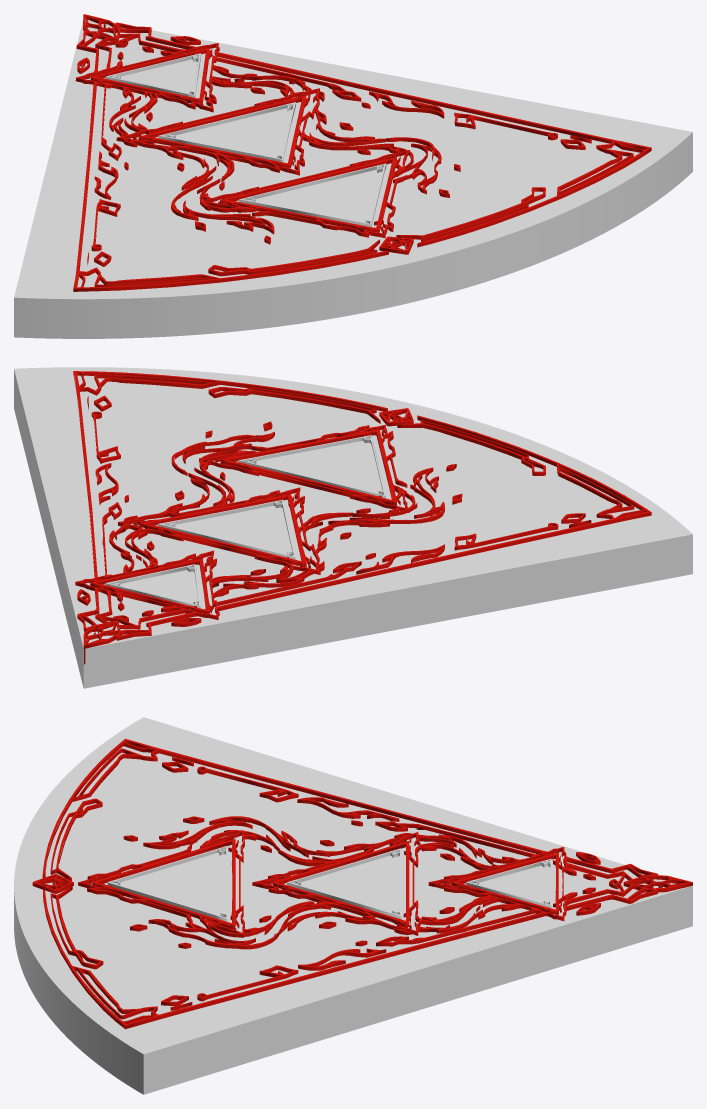
The model's file is floor_creative.glb.
3 renders of one model, top to bottom at view 1: azimuth 30°, elevation 25°; view 2: azimuth 150°, elevation 25°; view 3: azimuth 270°, elevation 25°, orthographic.
Parts seen in each view (by area): view 1: VR_PROGRESS_SECTOR_FIRE_BASE, path4, VR_PROGRESS_CARD_FIRE_03, VR_PROGRESS_CARD_FIRE_02, VR_PROGRESS_CARD_FIRE_01; view 2: VR_PROGRESS_SECTOR_FIRE_BASE, path4, VR_PROGRESS_CARD_FIRE_03, VR_PROGRESS_CARD_FIRE_02, VR_PROGRESS_CARD_FIRE_01; view 3: VR_PROGRESS_SECTOR_FIRE_BASE, path4, VR_PROGRESS_CARD_FIRE_03, VR_PROGRESS_CARD_FIRE_02, VR_PROGRESS_CARD_FIRE_01.
Boxes of the visible parts, left/top/right/bottom form: VR_PROGRESS_SECTOR_FIRE_BASE: left=14, top=20, right=692, bottom=338; path4: left=73, top=14, right=651, bottom=291; VR_PROGRESS_CARD_FIRE_03: left=239, top=163, right=386, bottom=227; VR_PROGRESS_CARD_FIRE_02: left=158, top=102, right=295, bottom=162; VR_PROGRESS_CARD_FIRE_01: left=105, top=53, right=200, bottom=97; VR_PROGRESS_SECTOR_FIRE_BASE: left=14, top=367, right=692, bottom=688; path4: left=73, top=371, right=651, bottom=664; VR_PROGRESS_CARD_FIRE_03: left=238, top=435, right=385, bottom=498; VR_PROGRESS_CARD_FIRE_02: left=157, top=500, right=295, bottom=559; VR_PROGRESS_CARD_FIRE_01: left=105, top=564, right=200, bottom=608; VR_PROGRESS_SECTOR_FIRE_BASE: left=14, top=717, right=692, bottom=1094; path4: left=32, top=738, right=692, bottom=1029; VR_PROGRESS_CARD_FIRE_03: left=107, top=846, right=227, bottom=921; VR_PROGRESS_CARD_FIRE_02: left=287, top=848, right=401, bottom=919; VR_PROGRESS_CARD_FIRE_01: left=466, top=859, right=551, bottom=908.
Size of the model in its own units: 8.93 by 0.5426 by 7.6.
